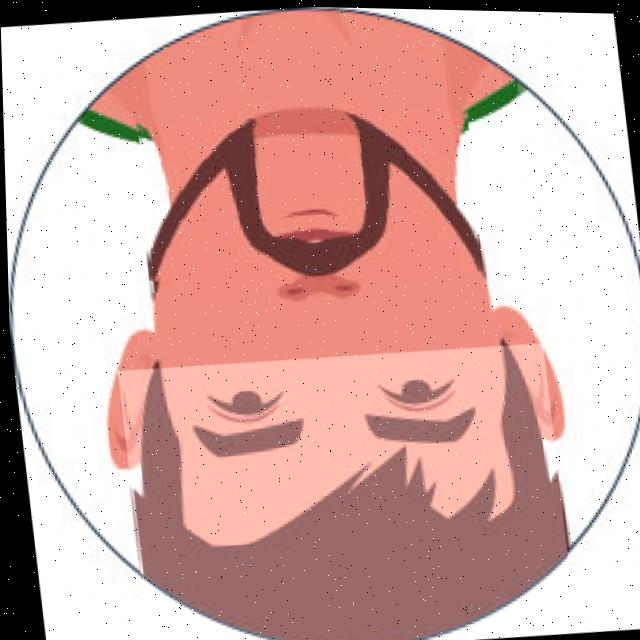beard: (146, 114, 479, 273)
hair: (129, 344, 563, 640)
